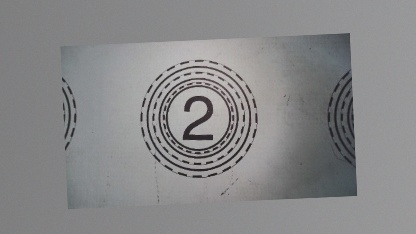2r: (136, 56, 260, 180)
